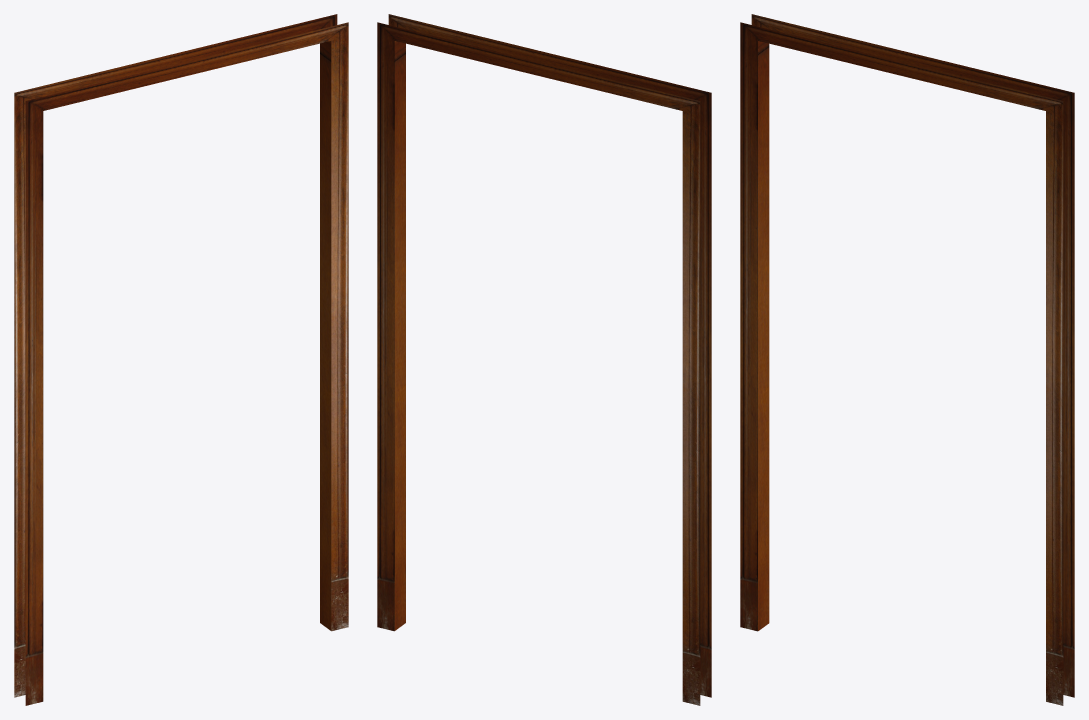
Rendered from marco.obj.
3 views of the same model, side by side, from view 1: azimuth 30°, elevation 25°; view 2: azimuth 150°, elevation 25°; view 3: azimuth 330°, elevation 25° (orthographic).
Visible parts, largest first — view 1: InteriorDoorProfile; view 2: InteriorDoorProfile; view 3: InteriorDoorProfile.
Part boxes in pixels (bbox=[...]): InteriorDoorProfile: bbox=[14, 14, 348, 705]; InteriorDoorProfile: bbox=[377, 14, 711, 705]; InteriorDoorProfile: bbox=[740, 14, 1074, 705].
Bounding box in the file's own units: 45.68 × 81.68 × 2.76.
1 material, 1 textured.
